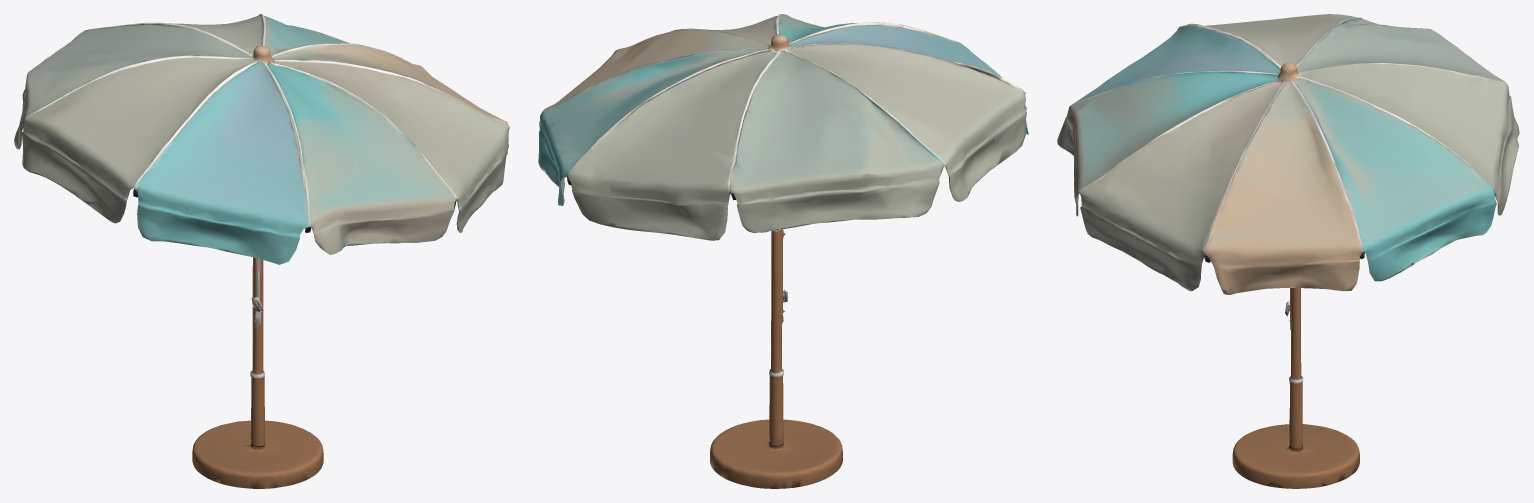
Rendered from beach-umbrella.glb.
3 renders of one model, left to right at view 1: azimuth 30°, elevation 25°; view 2: azimuth 150°, elevation 25°; view 3: azimuth 270°, elevation 25°, orthographic. The views are drawn at different scales.
Visible parts, largest first — view 1: tripo_node_d542fdd7-442a-401a-a9b6-392f49abc18d; view 2: tripo_node_d542fdd7-442a-401a-a9b6-392f49abc18d; view 3: tripo_node_d542fdd7-442a-401a-a9b6-392f49abc18d.
Boxes of the visible parts, x1,y1,x2,y2 form: tripo_node_d542fdd7-442a-401a-a9b6-392f49abc18d: (14,14,509,488); tripo_node_d542fdd7-442a-401a-a9b6-392f49abc18d: (538,14,1028,488); tripo_node_d542fdd7-442a-401a-a9b6-392f49abc18d: (1057,14,1519,488).
Bounding box in the file's own units: 1 × 0.9505 × 0.9974.
Materials: 1 (1 with a texture image).
